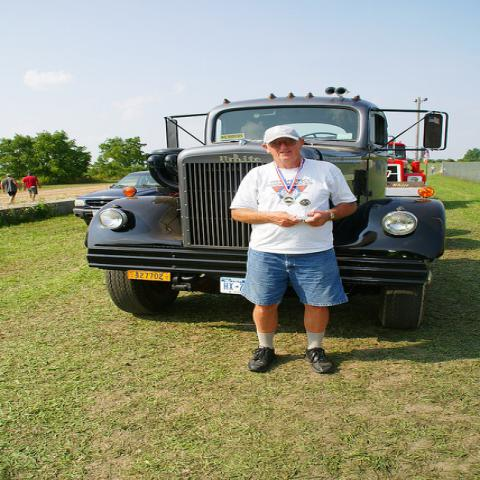car: (69, 170, 171, 218)
truck: (77, 95, 450, 326)
